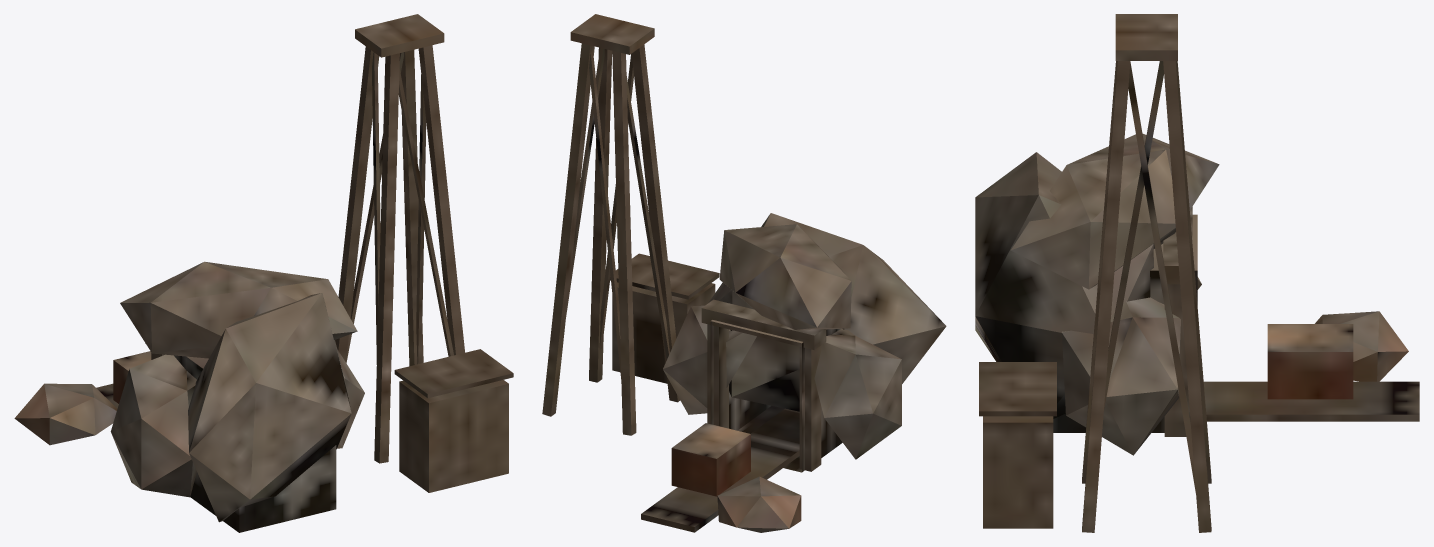
File: b_mine_xfar.glb
3 views of the same model, side by side, from view 1: azimuth 30°, elevation 25°; view 2: azimuth 150°, elevation 25°; view 3: azimuth 270°, elevation 25° (orthographic). The views are drawn at different scales.
Visible parts, largest first — view 1: b_mine_xfar; view 2: b_mine_xfar; view 3: b_mine_xfar.
Boxes of the visible parts, left/top/right/bottom form: b_mine_xfar: left=14, top=14, right=513, bottom=532; b_mine_xfar: left=542, top=14, right=946, bottom=532; b_mine_xfar: left=975, top=14, right=1419, bottom=532.
Size of the model in its own units: 5.84 by 6.7 by 5.7.
1 material, 1 textured.
